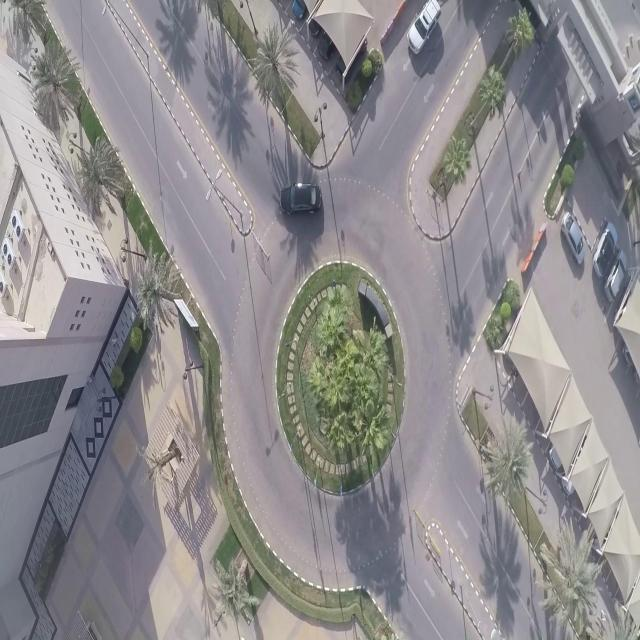car: (407, 0, 441, 58), (278, 180, 322, 220), (560, 210, 586, 268), (595, 223, 618, 282), (607, 252, 628, 300), (559, 464, 577, 498), (317, 31, 334, 62), (548, 443, 563, 475), (306, 13, 321, 38), (292, 0, 308, 20)
